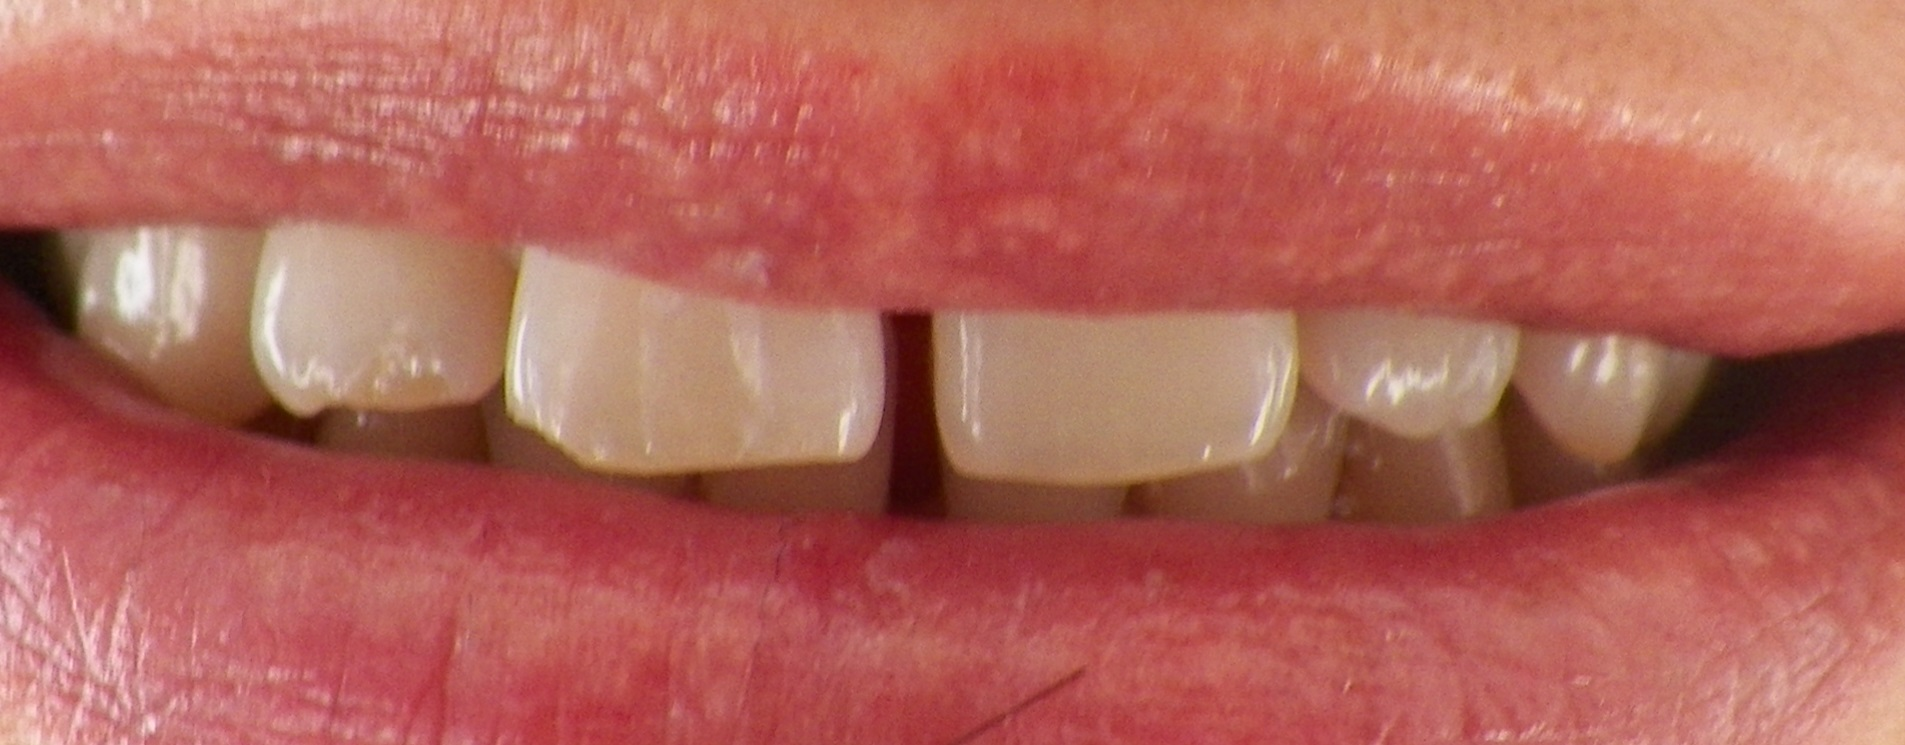boca: (49, 221, 1754, 534)
